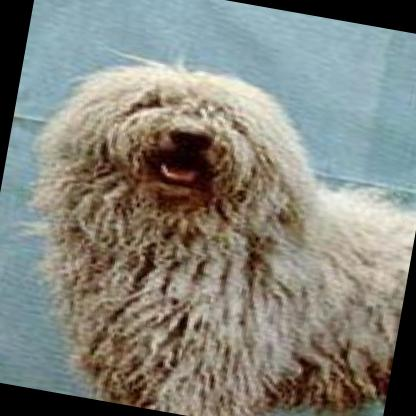komondor: (0, 31, 416, 416)
